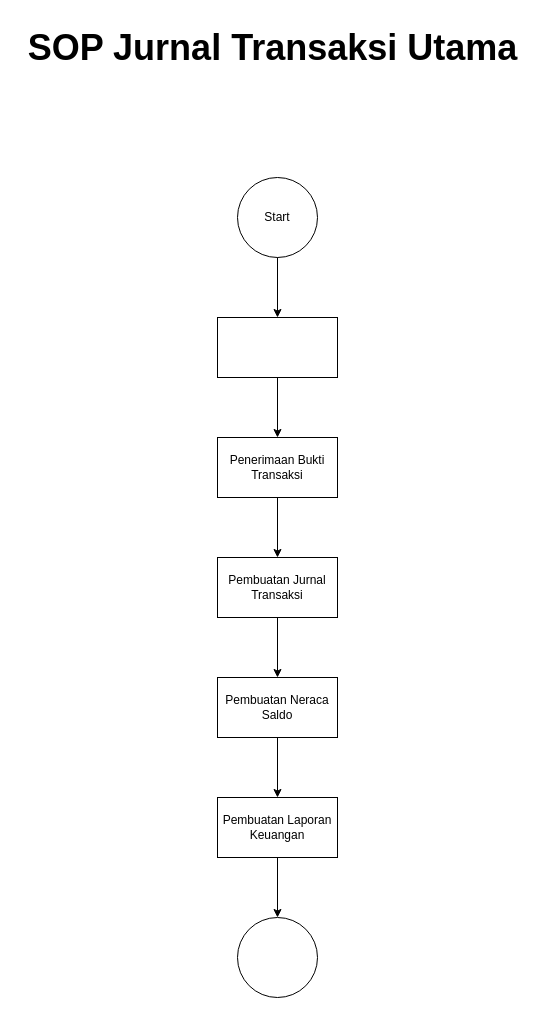
The diagram is 544 pixels wide and 1015 high, and some of its shapes have lost their labels. The shapes that lost their labels are listed below. From the top down, each one's centre as x and y in pixels, then its label:
the point at 277,347: Pembuatan Akun oleh Ass. HO approved by Mgr. HO
the point at 277,957: End
